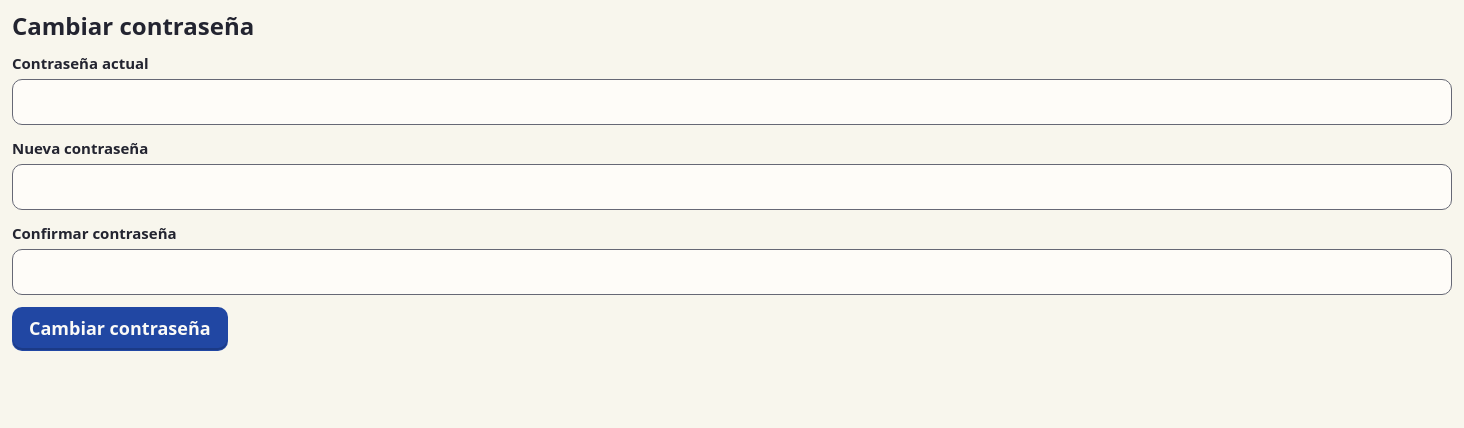
Test: no envía una contraseña corta ni una confirmación distinta
In the password field labelled "Contraseña actual": point(732, 102) [12, 79, 1452, 125], type "actual-larga-1"
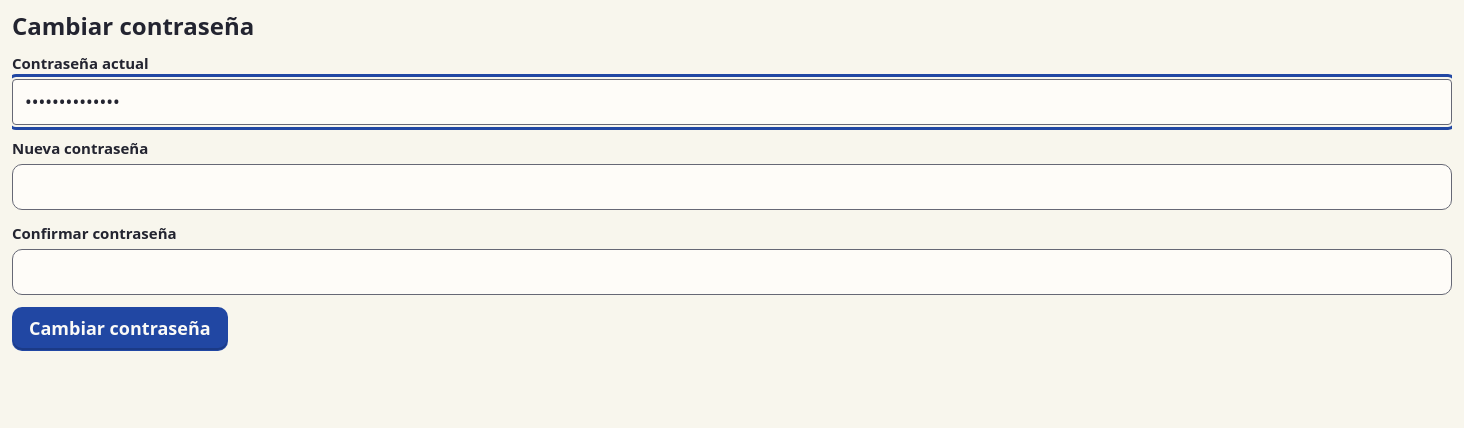
In the password field labelled "Nueva contraseña": point(732, 187) [12, 164, 1452, 210], type "corta"
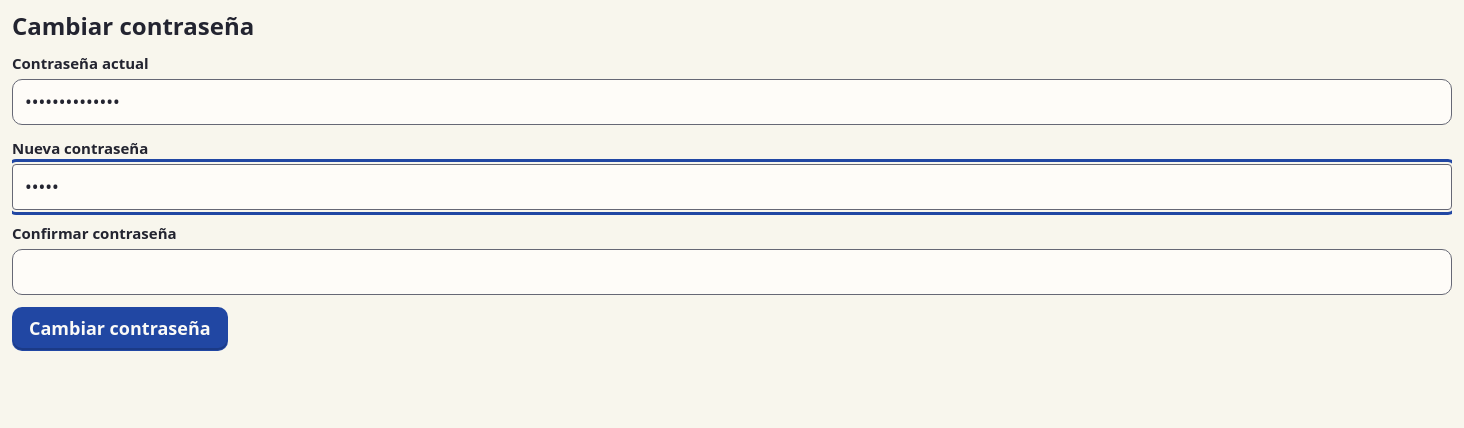
In the password field labelled "Confirmar contraseña": point(732, 272) [12, 249, 1452, 295], type "otra"
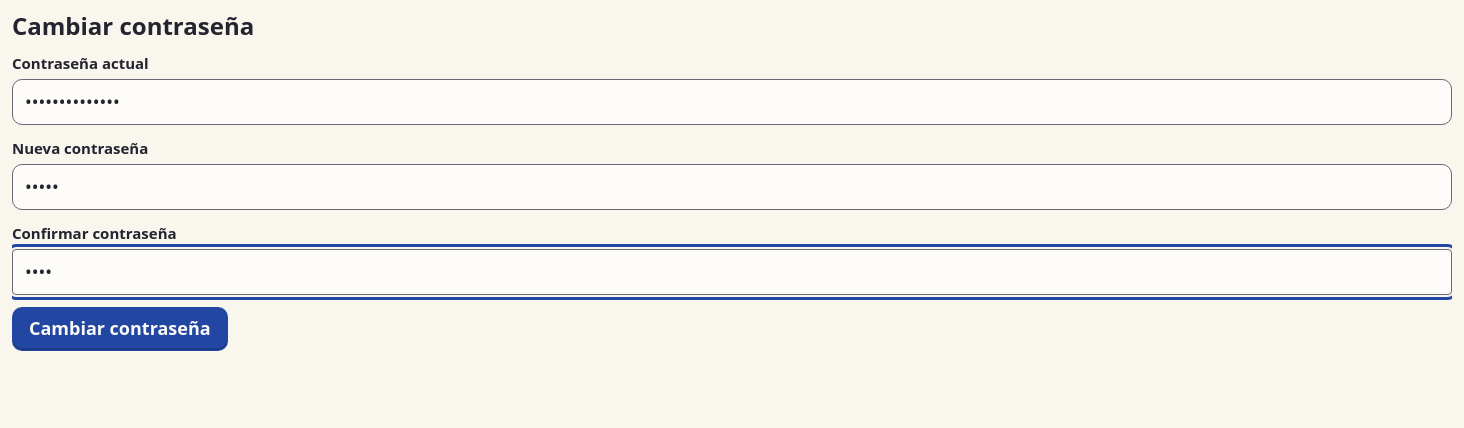
Click the button "Cambiar contraseña": point(120, 329) [12, 307, 228, 351]
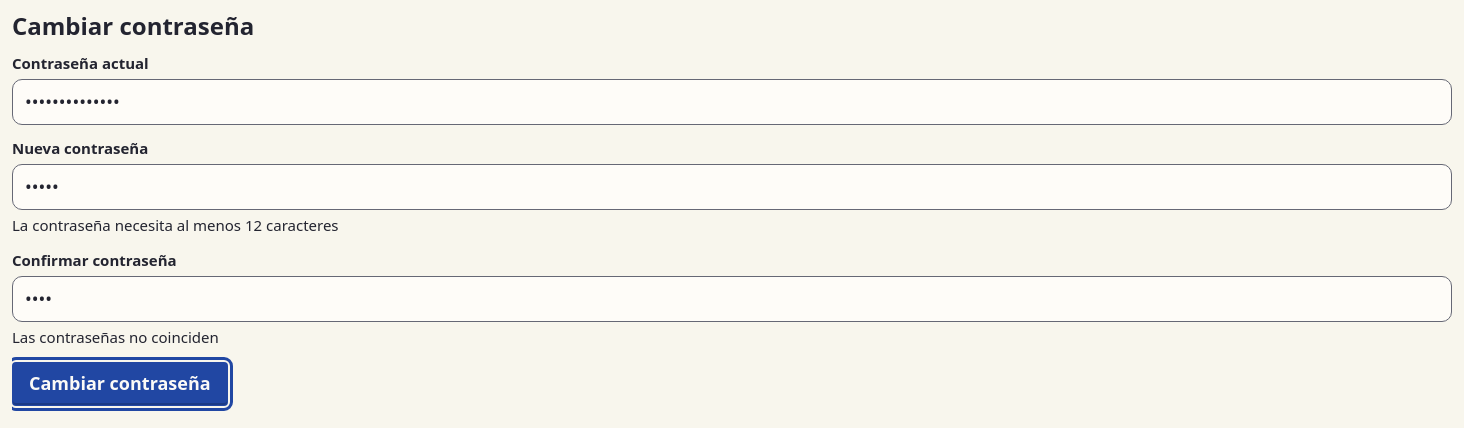
Result: the text "La contraseña necesita al menos 12 caracteres" is shown at [12, 215, 339, 235]
Result: the text "Las contraseñas no coinciden" is shown at [12, 327, 219, 347]
